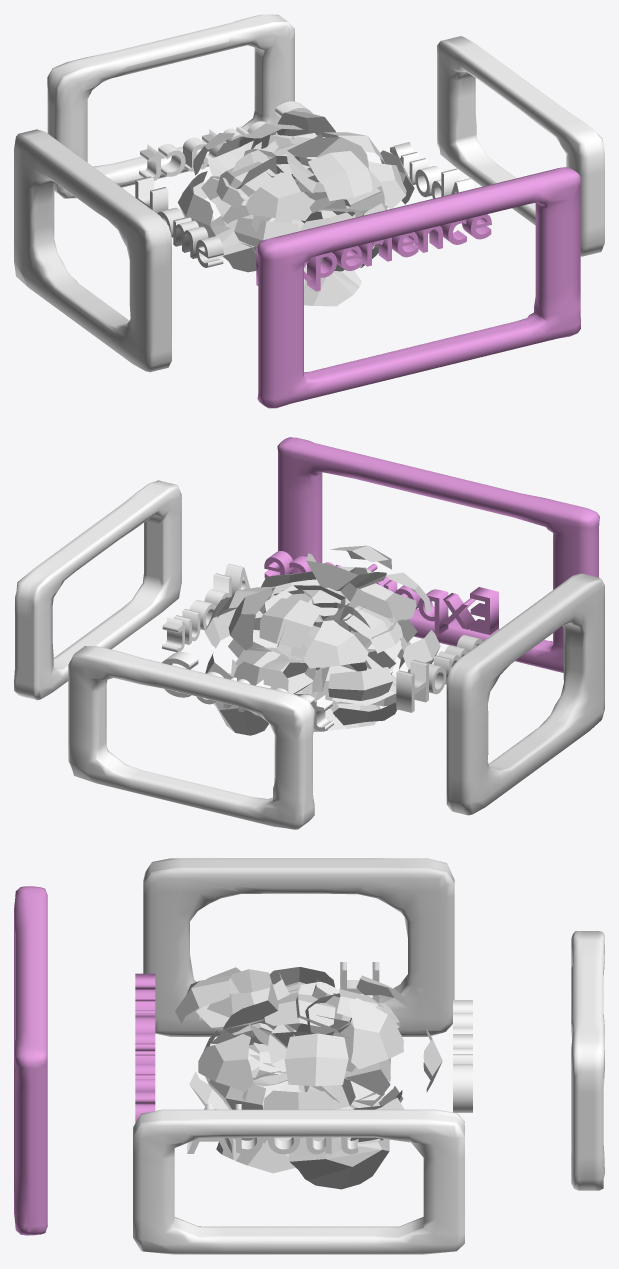
Rendered from menuScene2-CVGY-Tv6.glb.
3 views of the same model, one above another, from view 1: azimuth 30°, elevation 25°; view 2: azimuth 150°, elevation 25°; view 3: azimuth 270°, elevation 25° (orthographic). The views are drawn at different scales.
Parts seen in each view (by area): view 1: Portal_Exp, Portal_Home, Portal_Contact, Portal_About, Text_Exp, Cube_cell.014, Cube_cell.006, Text._Home, Text.Contact, Text_About, Cube_cell.002, Cube_cell.022 (+12 smaller); view 2: Portal_Home, Portal_Contact, Portal_Exp, Portal_About, Text_Exp, Cube_cell.018, Text_About, Cube_cell.004, Text._Home, Cube_cell.006, Cube_cell.013, Cube_cell (+12 smaller); view 3: Portal_About, Portal_Home, Portal_Exp, Portal_Contact, Cube_cell.015, Cube_cell.014, Cube_cell.007, Cube_cell, Cube_cell.002, Text_Exp, Text.Contact, Cube_cell.020 (+13 smaller).
Boxes of the visible parts, bbox=[...] form: Portal_Exp: bbox=[257, 167, 580, 408]; Portal_Home: bbox=[14, 129, 171, 372]; Portal_Contact: bbox=[47, 14, 294, 198]; Portal_About: bbox=[437, 36, 604, 256]; Text_Exp: bbox=[256, 214, 491, 291]; Cube_cell.014: bbox=[287, 137, 372, 201]; Cube_cell.006: bbox=[236, 156, 336, 220]; Text._Home: bbox=[135, 176, 223, 267]; Text.Contact: bbox=[139, 101, 312, 180]; Text_About: bbox=[390, 142, 474, 198]; Cube_cell.002: bbox=[304, 161, 406, 211]; Cube_cell.022: bbox=[177, 176, 271, 237]; Portal_Home: bbox=[446, 573, 604, 815]; Portal_Contact: bbox=[68, 646, 314, 829]; Portal_Exp: bbox=[277, 437, 599, 672]; Portal_About: bbox=[14, 480, 181, 700]; Text_Exp: bbox=[264, 551, 498, 634]; Cube_cell.018: bbox=[259, 585, 345, 647]; Text_About: bbox=[162, 563, 250, 652]; Cube_cell.004: bbox=[276, 602, 371, 668]; Text._Home: bbox=[396, 635, 482, 712]; Cube_cell.006: bbox=[340, 567, 430, 622]; Cube_cell.013: bbox=[304, 649, 395, 700]; Cube_cell: bbox=[228, 588, 323, 677]; Portal_About: bbox=[133, 1109, 464, 1254]; Portal_Home: bbox=[143, 858, 454, 1036]; Portal_Exp: bbox=[14, 886, 47, 1235]; Portal_Contact: bbox=[571, 931, 604, 1190]; Cube_cell.015: bbox=[268, 1015, 355, 1086]; Cube_cell.014: bbox=[175, 969, 278, 1029]; Cube_cell.007: bbox=[277, 1137, 389, 1189]; Cube_cell: bbox=[296, 993, 403, 1102]; Cube_cell.002: bbox=[198, 1019, 294, 1091]; Text_Exp: bbox=[135, 973, 155, 1122]; Text.Contact: bbox=[453, 1000, 472, 1112]; Cube_cell.020: bbox=[242, 983, 351, 1048].
Size of the model in its own units: 8.79 by 3.1 by 8.81.
